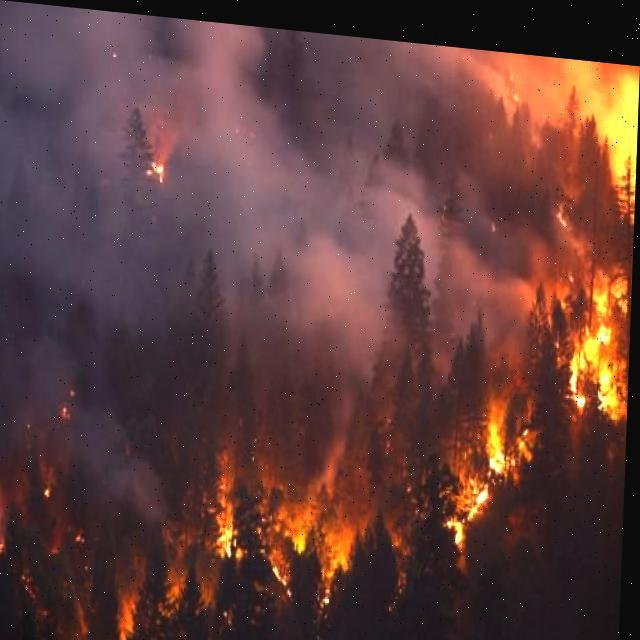Fire: (206, 484, 379, 593), (442, 380, 550, 538), (556, 244, 634, 411)
